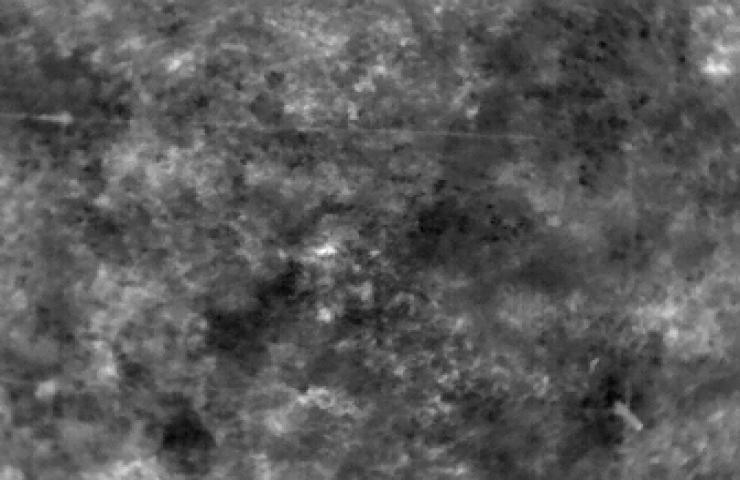landmines: (311, 238, 342, 265)
